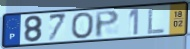1: (127, 8, 140, 38)
7: (48, 12, 68, 43)
8: (23, 14, 44, 43)
L: (147, 6, 167, 35)
O: (70, 11, 95, 40)
P: (94, 9, 121, 39)
